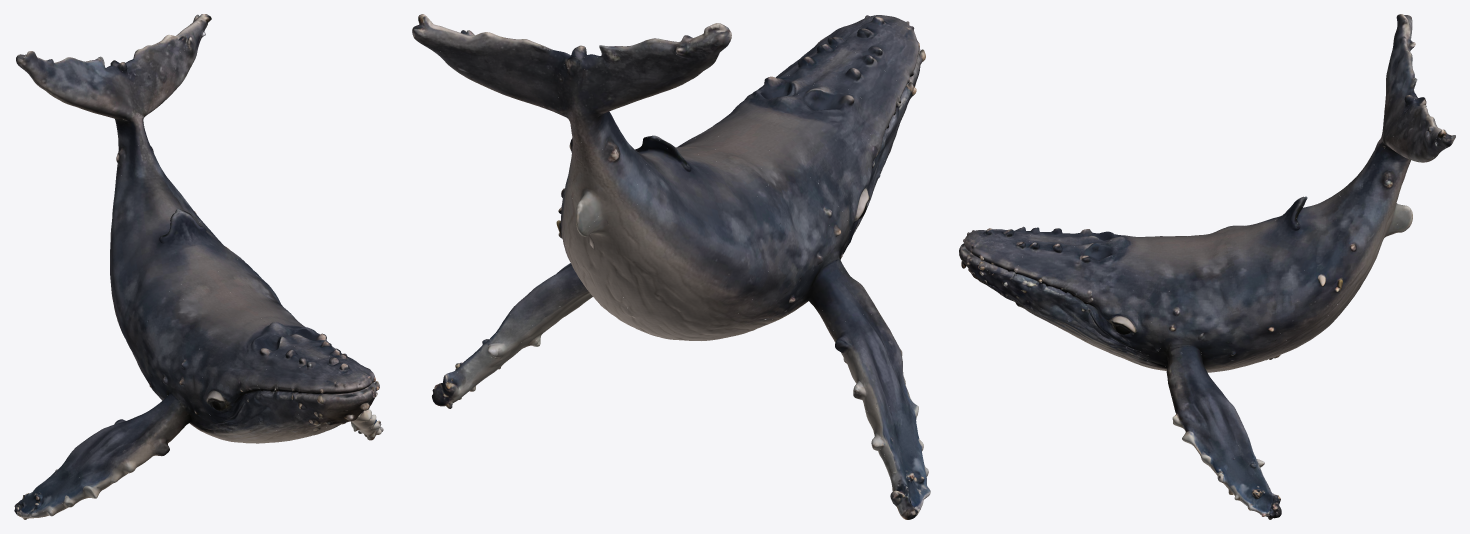
Rendered from Whale.glb.
3 views of the same model, side by side, from view 1: azimuth 30°, elevation 25°; view 2: azimuth 150°, elevation 25°; view 3: azimuth 270°, elevation 25° (orthographic). The views are drawn at different scales.
Visible parts, largest first — view 1: tripo_node_65cc3c27-58ab-4024-ae9e-6195bc0aa39d; view 2: tripo_node_65cc3c27-58ab-4024-ae9e-6195bc0aa39d; view 3: tripo_node_65cc3c27-58ab-4024-ae9e-6195bc0aa39d.
Part boxes in pixels (x1=…): tripo_node_65cc3c27-58ab-4024-ae9e-6195bc0aa39d: x1=14, y1=14, x2=383, y2=519; tripo_node_65cc3c27-58ab-4024-ae9e-6195bc0aa39d: x1=412, y1=14, x2=930, y2=519; tripo_node_65cc3c27-58ab-4024-ae9e-6195bc0aa39d: x1=959, y1=14, x2=1455, y2=519.
Bounding box in the file's own units: 0.7923 × 0.8428 × 0.9998.
1 material, 1 textured.
